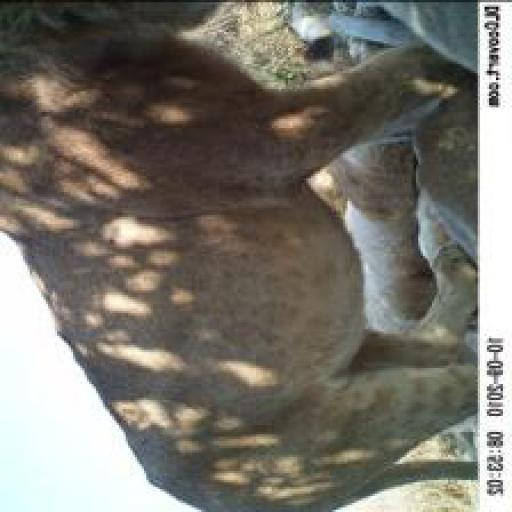lion: (7, 2, 475, 512)
